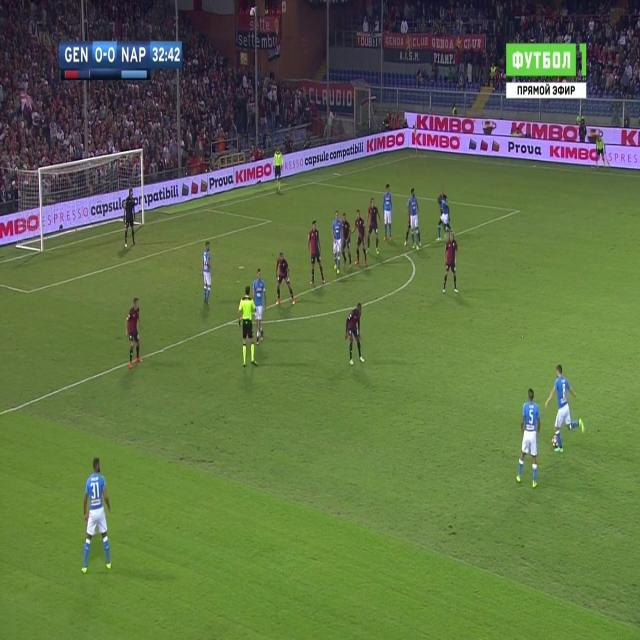Ball: (551, 434, 559, 448)
Goalkeeper: (121, 187, 139, 255)
Player: (545, 360, 588, 455), (81, 457, 113, 577), (515, 384, 542, 490), (124, 297, 144, 371), (344, 302, 367, 365), (306, 218, 326, 289), (274, 252, 296, 313), (441, 229, 460, 298), (252, 268, 268, 348), (366, 196, 382, 262), (352, 208, 369, 269), (201, 240, 214, 312), (434, 192, 452, 242), (331, 208, 343, 279), (409, 187, 421, 254), (382, 182, 394, 243), (342, 212, 354, 268)
Referee: (236, 285, 259, 373), (594, 133, 609, 174), (274, 146, 284, 197)
